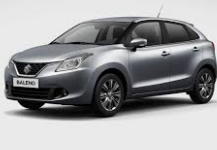car: (3, 12, 217, 120)
